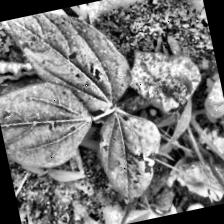ALS: (0, 0, 135, 120), (88, 102, 176, 214), (0, 77, 97, 178), (120, 43, 210, 118)
